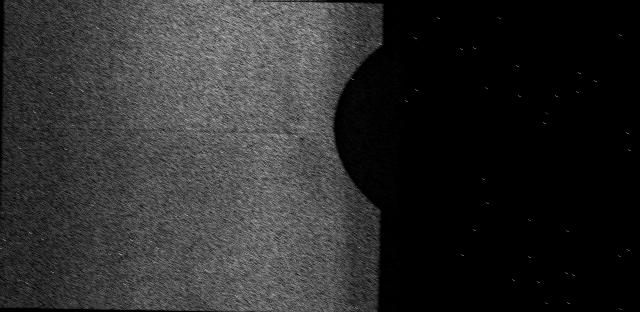welding_line: (1, 112, 334, 144)
